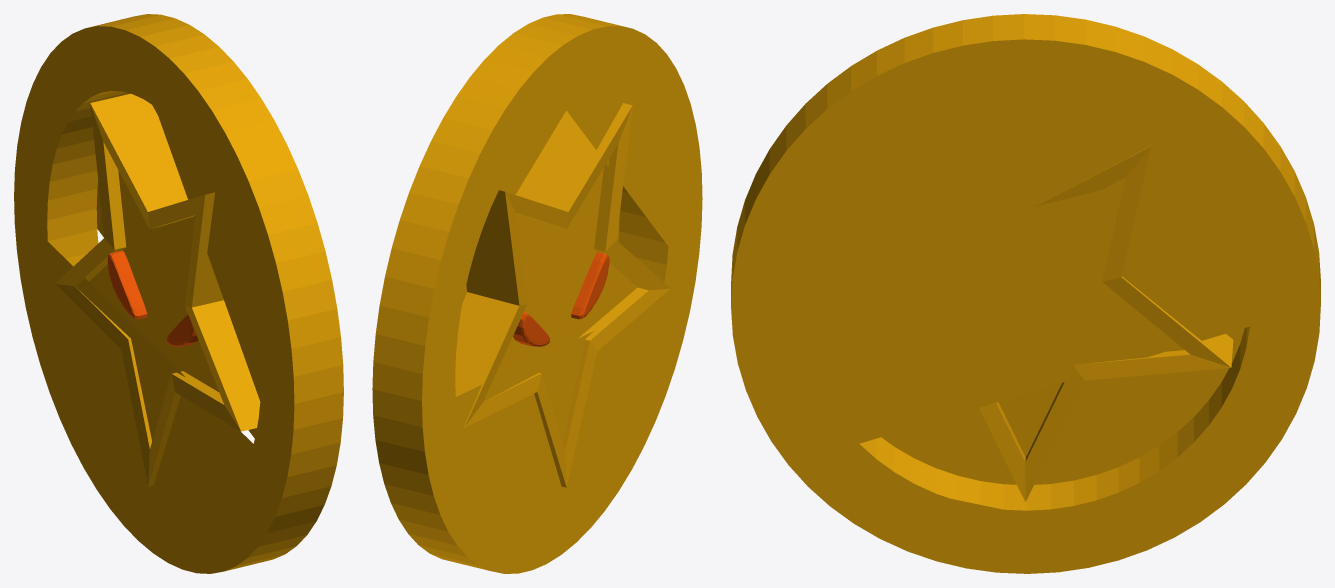
File: moneda_de_oro.fbx
The picture shows the model from 3 angles, left to right: view 1: azimuth 30°, elevation 25°; view 2: azimuth 150°, elevation 25°; view 3: azimuth 270°, elevation 25°; orthographic projection. The views are drawn at different scales.
Visible parts, largest first — view 1: Cylinder.001; view 2: Cylinder.001; view 3: Cylinder.001.
Boxes of the visible parts, x1,y1,x2,y2 form: Cylinder.001: (14, 14, 343, 573); Cylinder.001: (372, 14, 702, 573); Cylinder.001: (731, 14, 1320, 573).
Bounding box in the file's own units: 27.68 × 204 × 204.
